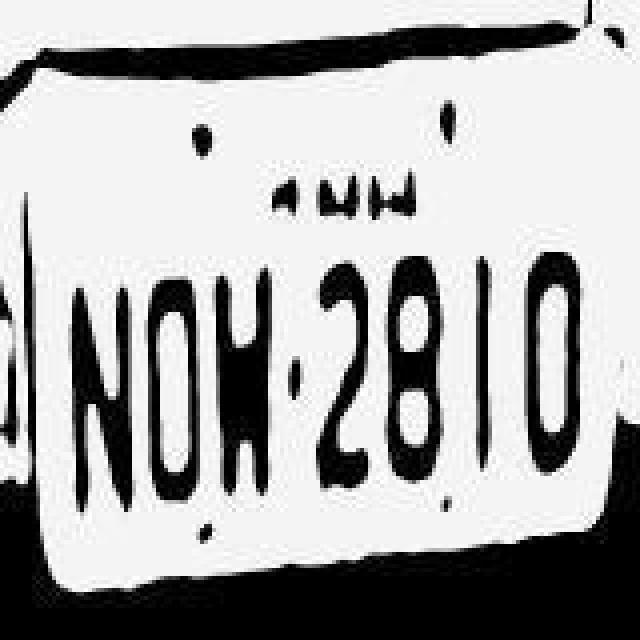1: (458, 226, 502, 478)
2: (304, 246, 368, 498)
8: (378, 236, 446, 484)
N: (50, 264, 134, 528)
O: (516, 226, 588, 486), (134, 270, 202, 522)
W: (204, 254, 276, 514)
